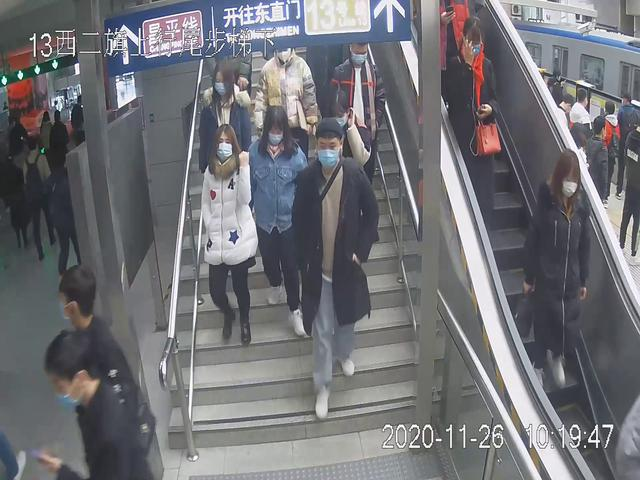person: (287, 114, 384, 424), (524, 142, 594, 402), (199, 116, 261, 349), (441, 11, 496, 262), (325, 30, 389, 195)
